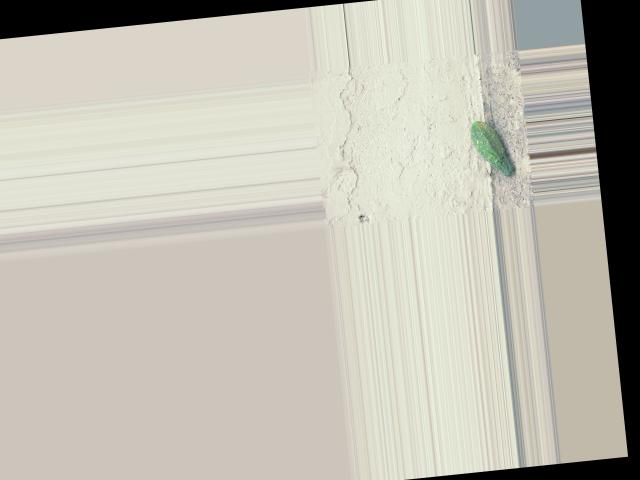cucumber: (468, 117, 514, 178)
